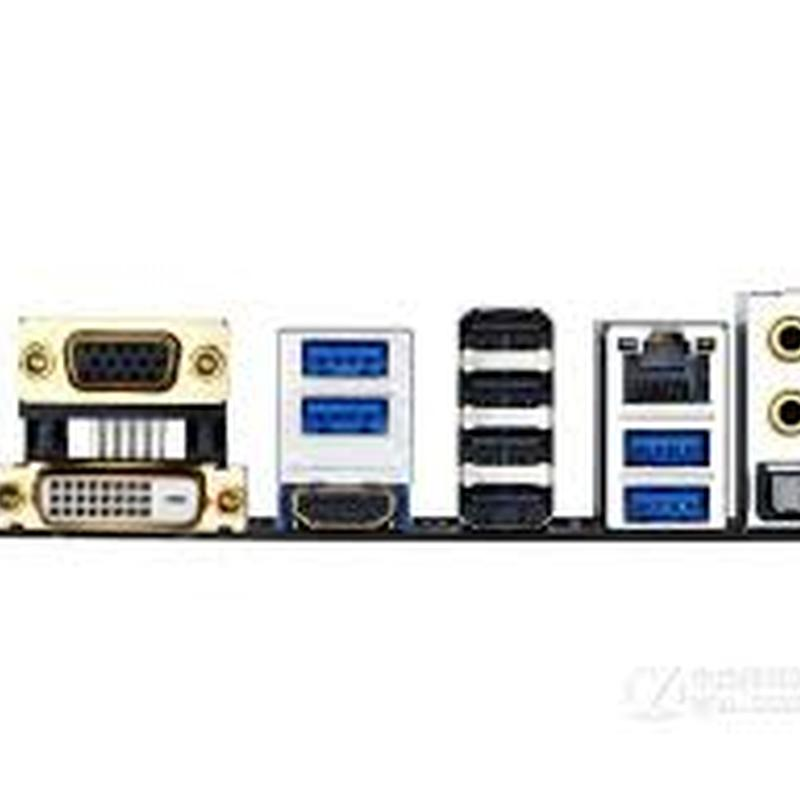DVI: (0, 445, 257, 552)
ETHERNET: (603, 312, 720, 405)
HDMI: (276, 471, 410, 538)
USB: (446, 289, 560, 356), (289, 320, 406, 385), (445, 477, 569, 538), (288, 385, 402, 445), (445, 362, 560, 421), (451, 420, 563, 478), (610, 418, 725, 471), (611, 475, 716, 529)
VGA: (12, 312, 234, 424)
